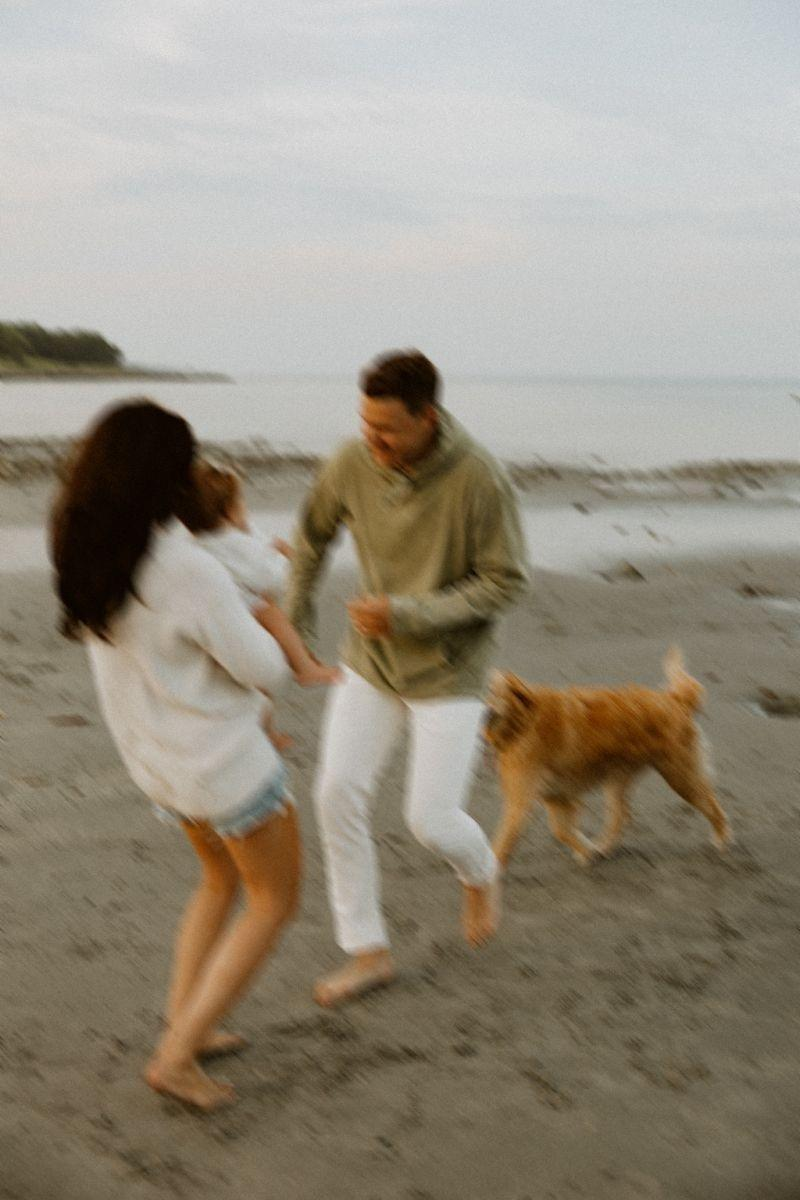adult_dog: (484, 642, 739, 867)
non-dog: (45, 396, 308, 1118), (272, 347, 532, 1008), (177, 456, 345, 692)
